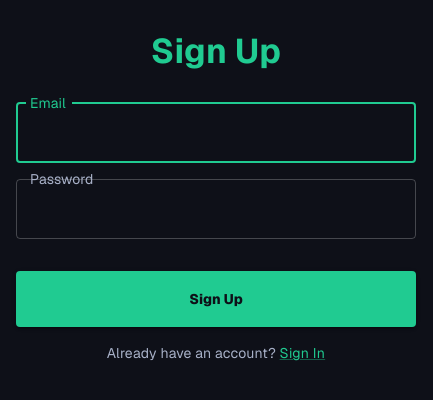
Test: SignUp page › shows the API error message when /api/sign-up responds non-ok
Type "dup@example.com" into the field labelled "Email" at (216, 133), box x1=16 y1=103 x2=416 y2=163
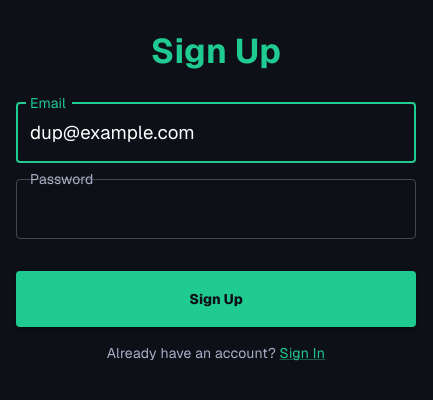
Type "ChrisIsTheBest42!" into the password field labelled "Password" at (216, 209), box x1=16 y1=179 x2=416 y2=238
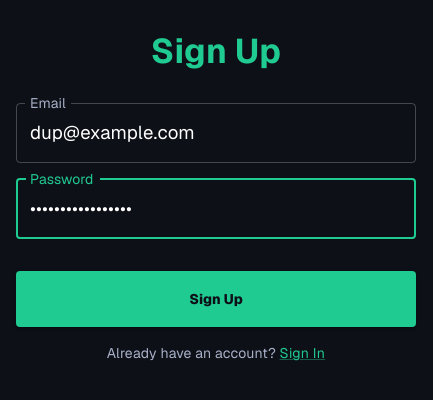
Click the button "Sign Up" at (216, 299), box x1=16 y1=271 x2=416 y2=327
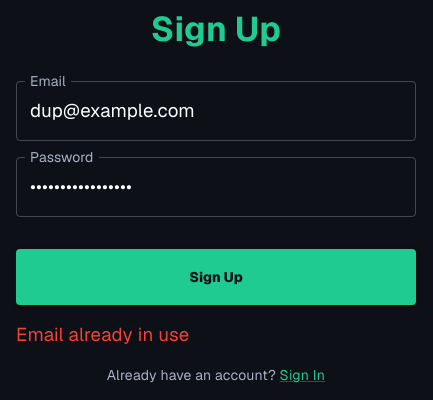
Expected: the text with test id "sign-up-error" reads "Email already in use", x1=16 y1=322 x2=189 y2=347
